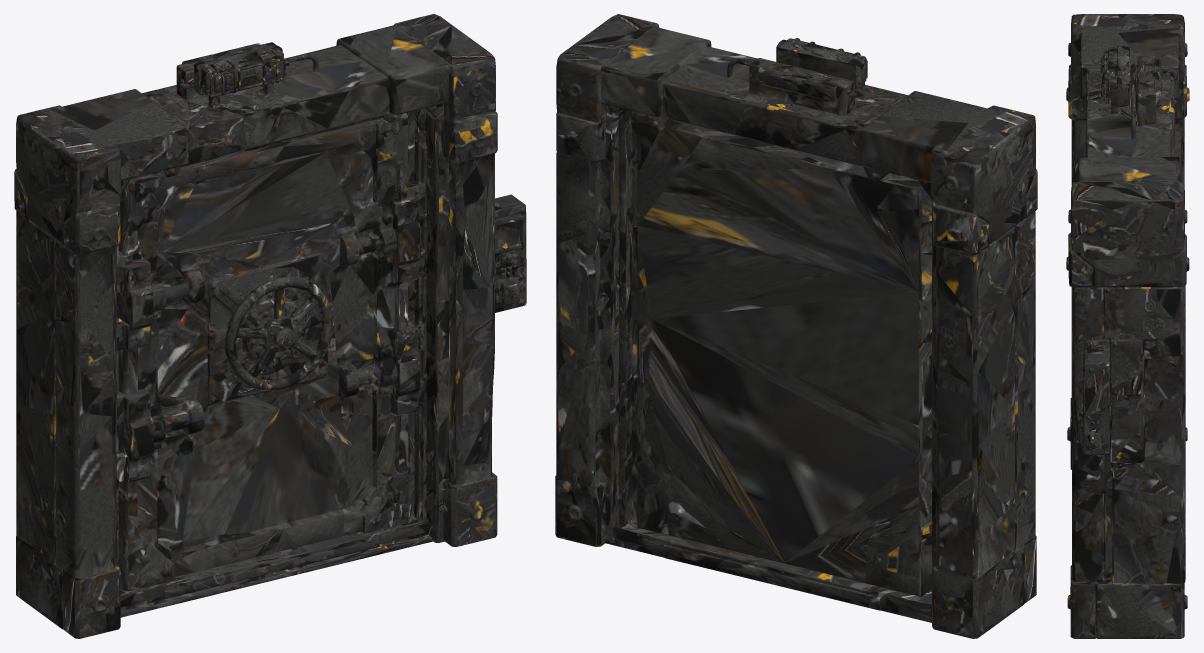
File: SM_A07K_VaultDoor.fbx
3 views of the same model, side by side, from view 1: azimuth 30°, elevation 25°; view 2: azimuth 150°, elevation 25°; view 3: azimuth 270°, elevation 25° (orthographic). The views are drawn at different scales.
Visible parts, largest first — view 1: SM_A07K_VaultDoor; view 2: SM_A07K_VaultDoor; view 3: SM_A07K_VaultDoor.
Part boxes in pixels (<box>): SM_A07K_VaultDoor: <box>14,14,526,638</box>; SM_A07K_VaultDoor: <box>555,14,1037,638</box>; SM_A07K_VaultDoor: <box>1066,14,1189,638</box>.
Bounding box in the file's own units: 230 × 248 × 58.6.
